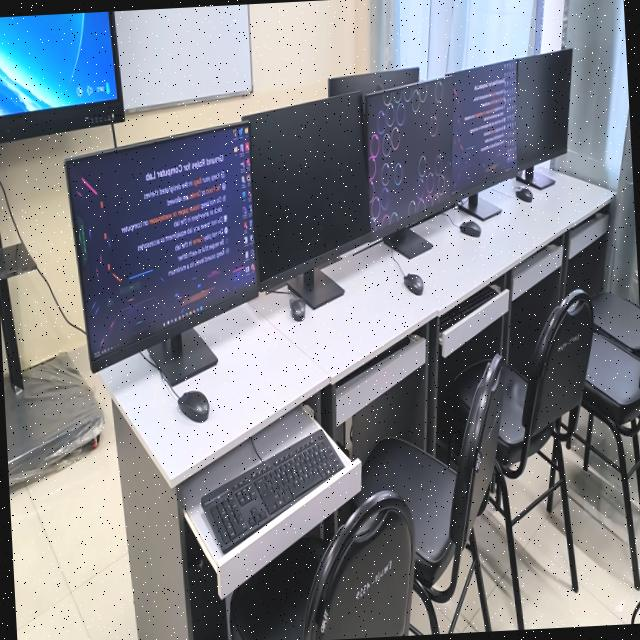Chair: (355, 353, 507, 635), (492, 289, 592, 630), (229, 490, 415, 640), (577, 332, 640, 588), (591, 292, 640, 350)
Digital board: (0, 10, 124, 486)
Keyboard: (201, 429, 343, 552), (439, 284, 497, 330)
Monitor: (65, 121, 258, 386), (242, 90, 370, 308), (364, 76, 453, 256), (450, 59, 516, 219), (515, 49, 571, 188), (327, 67, 418, 96)
Mouse: (177, 389, 209, 421), (288, 293, 305, 320), (403, 273, 423, 294), (459, 220, 480, 236), (514, 187, 532, 201)
